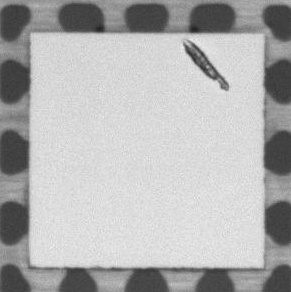DIE_INK: (183, 41, 227, 89)
